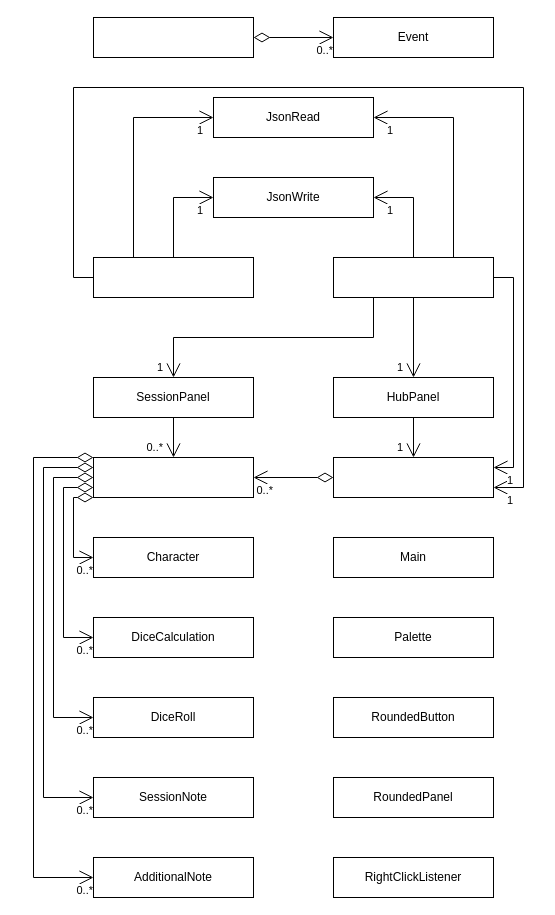
Image size: 555x915. Some labels were removed from this diagram. Each missing label, with the box of its shape:
EventLog: (92, 16, 254, 58)
Hub: (332, 456, 494, 498)
NotebookApp: (92, 256, 254, 298)
NotebookFrame: (332, 256, 494, 298)
Session: (92, 456, 254, 498)
